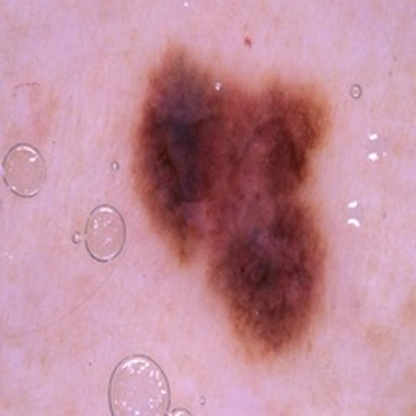malignant: (152, 75, 323, 339)
